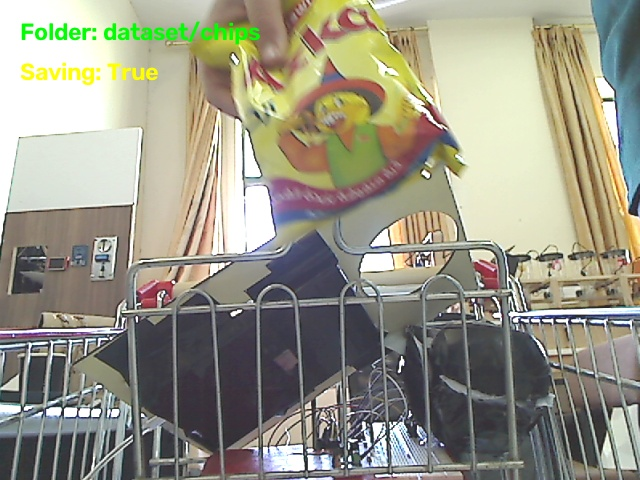chips: (191, 0, 464, 239)
